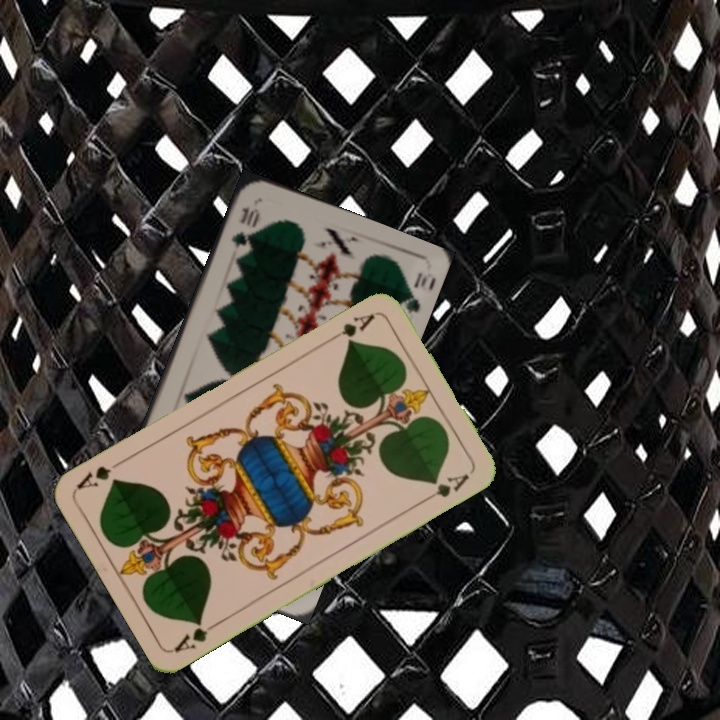G10: (227, 201, 262, 251)
GA: (171, 616, 224, 655), (325, 309, 378, 345)
